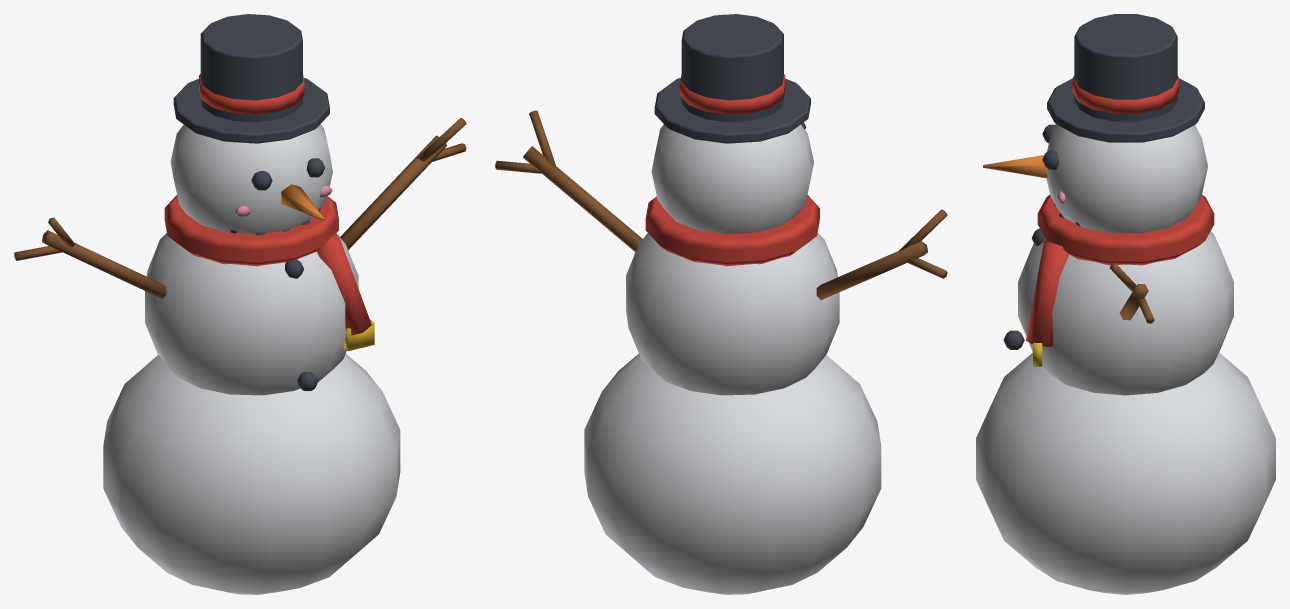
File: deco_snowman_big.glb
3 renders of one model, left to right at view 1: azimuth 30°, elevation 25°; view 2: azimuth 150°, elevation 25°; view 3: azimuth 270°, elevation 25°, orthographic.
Parts seen in each view (by area): view 1: deco_snowman_big; view 2: deco_snowman_big; view 3: deco_snowman_big.
Boxes of the visible parts, left/top/right/bottom form: deco_snowman_big: left=14, top=14, right=466, bottom=594; deco_snowman_big: left=495, top=14, right=947, bottom=594; deco_snowman_big: left=976, top=14, right=1275, bottom=594.
Size of the model in its own units: 1.71 by 1.98 by 0.9848.
